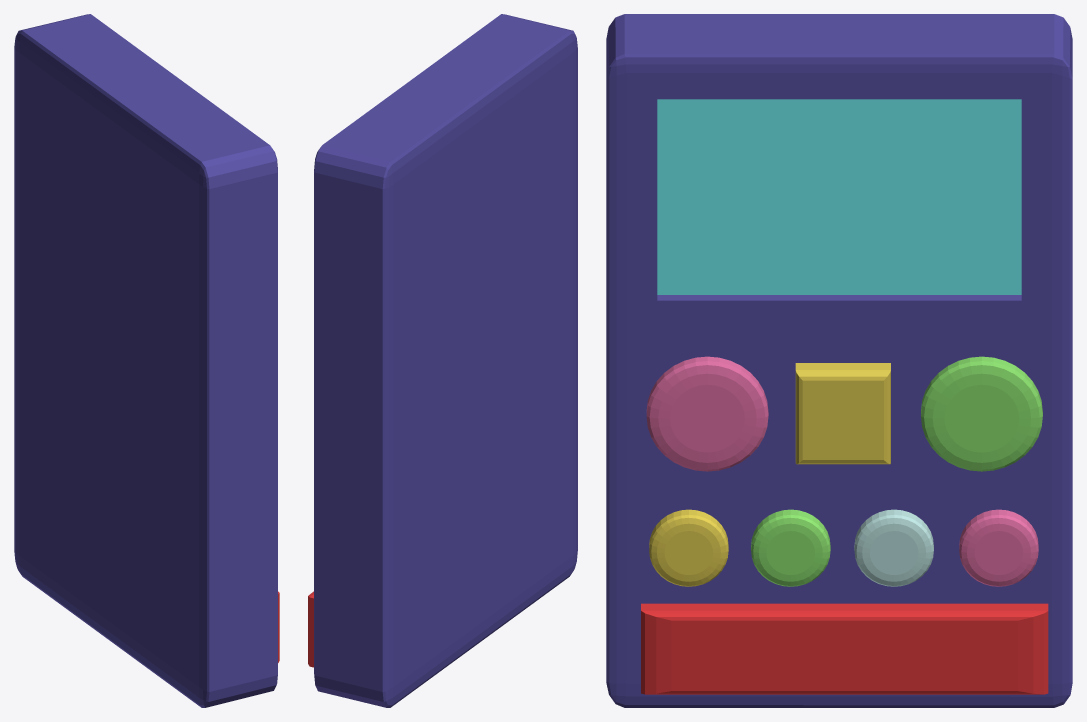
File: control panel.fbx
3 renders of one model, left to right at view 1: azimuth 30°, elevation 25°; view 2: azimuth 150°, elevation 25°; view 3: azimuth 270°, elevation 25°, orthographic. The views are drawn at different scales.
Visible parts, largest first — view 1: Cylinder.001; view 2: Cylinder.001; view 3: Cylinder.001.
Part boxes in pixels (x1=…): Cylinder.001: x1=14, y1=14, x2=279, y2=707; Cylinder.001: x1=308, y1=14, x2=577, y2=707; Cylinder.001: x1=606, y1=14, x2=1072, y2=707.
Bounding box in the file's own units: 70.25 × 396 × 256.
